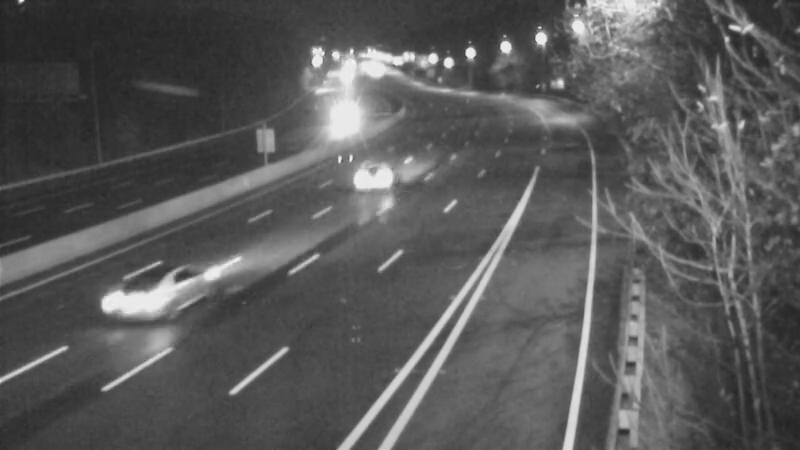vehicle: (337, 138, 417, 218), (103, 257, 183, 337), (314, 104, 364, 154)
